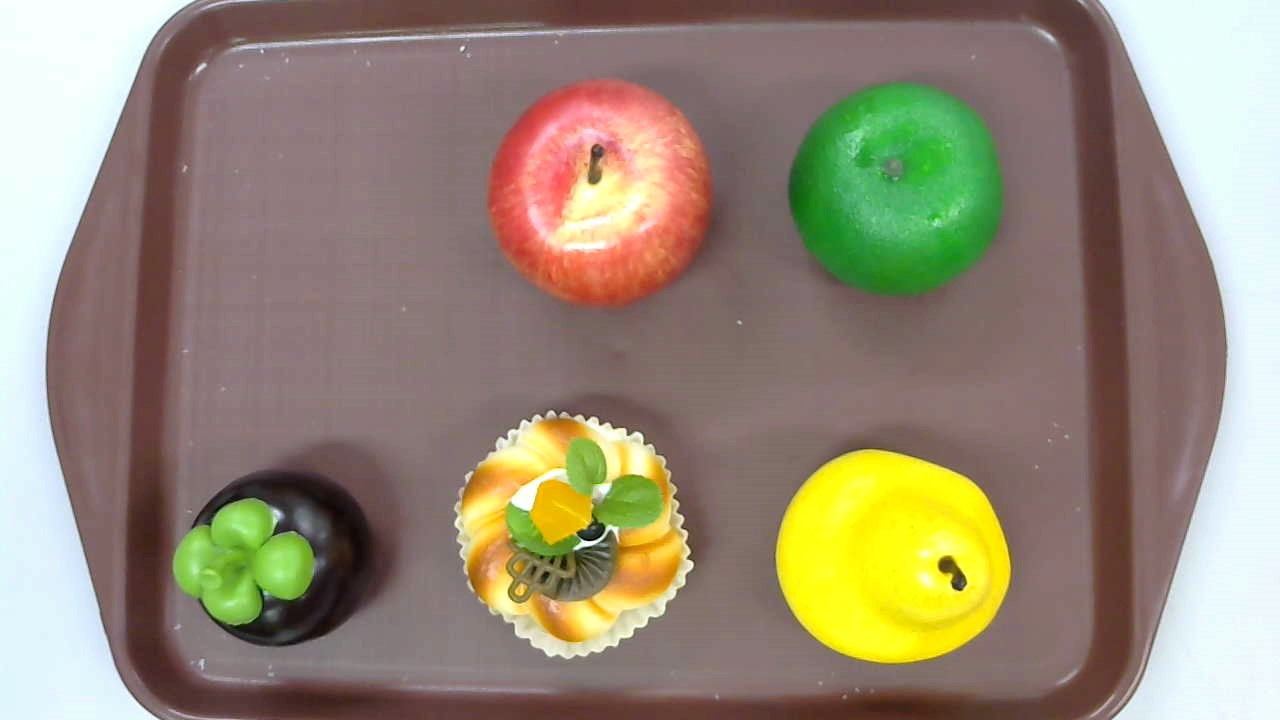fruit tower: (453, 409, 695, 658)
green orange: (787, 82, 1005, 297)
mangosteen: (171, 469, 377, 650)
red apple: (489, 78, 714, 309)
yellow pear: (774, 448, 1010, 664)
